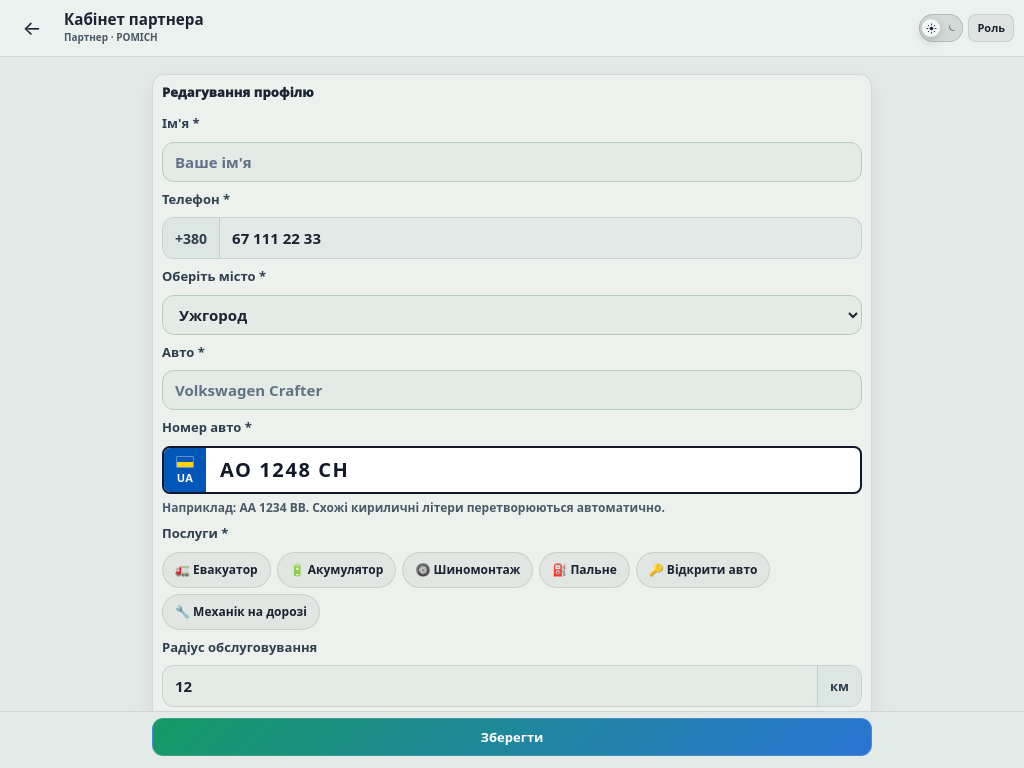
Test case: ProviderCabinet › shows validation feedback when save is blocked
Click the button "Зберегти" at (512, 737), box [152,718,872,756]
(page scrolled)
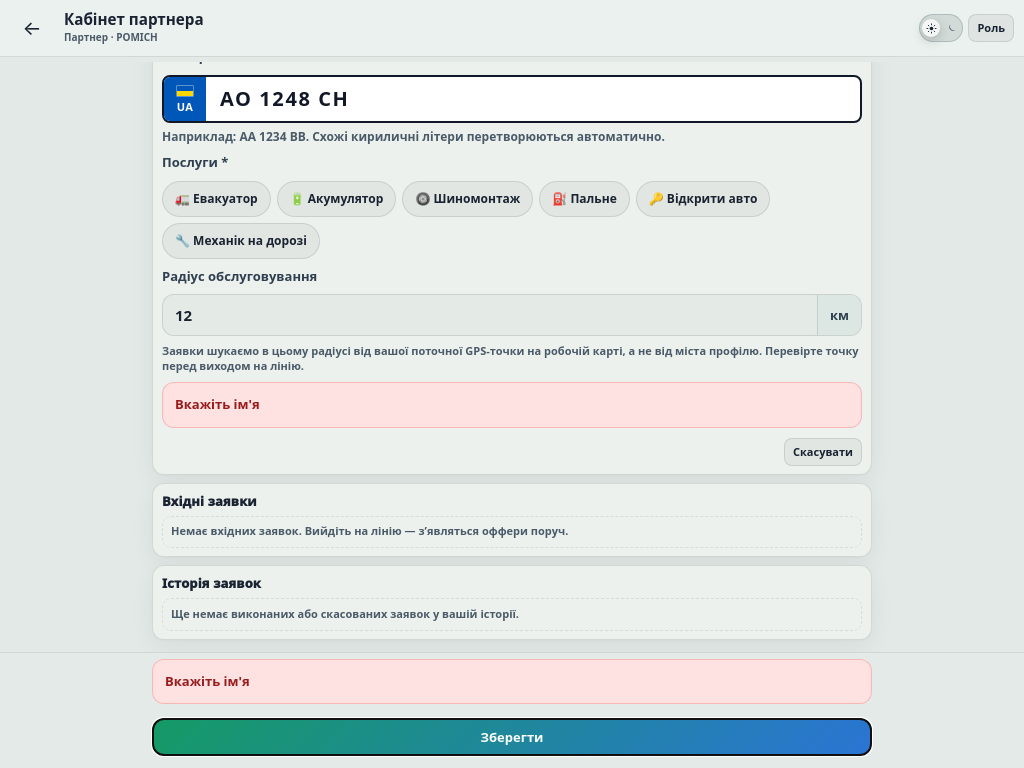
Expected: the text "Вкажіть ім'я" below "км" is shown, [175,395,260,413]
